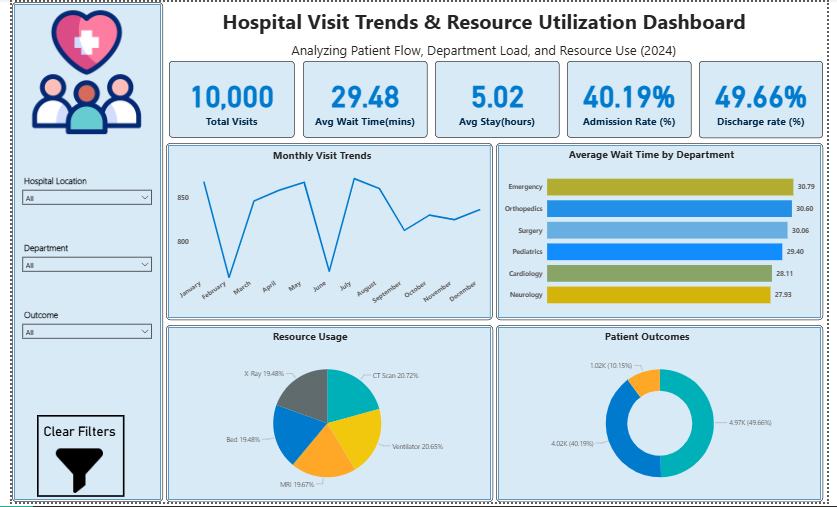

This screenshot's page, from the dashboard's own definition file:
{"tool":"powerbi","page":{"name":"Page 1","canvas":[1500,920],"ordinal":0},"visuals":[{"type":"slicer","fields":{"Values":["hospital_resource_data.Hospital_Location"]},"box":[9.2,313.6,258.5,127.7],"z":0,"group":"g1"},{"type":"textbox","box":[258.5,5.5,1218.1,62.6],"z":0},{"type":"textbox","box":[292.3,66.2,1150.8,61.5],"z":1000},{"type":"slicer","fields":{"Values":["hospital_resource_data.Outcome"]},"box":[9.2,559.8,258.5,127.7],"z":1000,"group":"g1"},{"type":"card","fields":{"Values":["hospital_resource_data.Total Visits"]},"box":[289.8,108.7,230.6,141.2],"z":2000},{"type":"slicer","fields":{"Values":["hospital_resource_data.Department"]},"box":[9.2,436.7,258.5,127.7],"z":2000,"group":"g1"},{"type":"card","fields":{"Values":["hospital_resource_data.Average Wait Time"]},"box":[534.7,108.7,228.8,141.2],"z":3000},{"type":"card","fields":{"Values":["hospital_resource_data.Average Stay"]},"box":[777.9,108.7,228.8,141.2],"z":4000},{"type":"card","fields":{"Values":["hospital_resource_data.Admission Rate (%)"]},"box":[1021.1,108.7,228.8,141.2],"z":5000},{"type":"shape","box":[0,0,277.8,920],"z":6000},{"type":"shape","box":[282.5,259.2,601.2,325.8],"z":7000},{"type":"shape","box":[890.6,259.4,601.7,325.7],"z":8000},{"type":"shape","box":[283.4,594.3,601.7,325.7],"z":9000},{"type":"shape","box":[890.6,594.3,601.7,325.7],"z":10000},{"type":"card","fields":{"Values":["hospital_resource_data.Discharge rate"]},"box":[1264.2,107.9,228.2,141.7],"z":11000},{"type":"lineChart","fields":{"Y":["hospital_resource_data.Total Visits"],"Category":["hospital_resource_data.Month"]},"box":[290.8,296.1,593.4,278.9],"z":12000},{"type":"clusteredBarChart","fields":{"Category":["hospital_resource_data.Department"],"Y":["hospital_resource_data.Avg Wait Time(mins)"]},"box":[900,296.1,584.3,280.4],"z":13000},{"type":"textbox","box":[475.4,263.1,212.3,44.6],"z":14000},{"type":"textbox","box":[1018.5,261.5,346.2,47.7],"z":15000},{"type":"pieChart","fields":{"Category":["hospital_resource_data.Resource_Used"],"Y":["hospital_resource_data.Resource Usage"]},"box":[292.3,641.5,575.4,266.2],"z":16000},{"type":"textbox","box":[473.8,596.9,212.3,44.6],"z":17000},{"type":"donutChart","fields":{"Category":["hospital_resource_data.Outcome"],"Y":["CountNonNull(hospital_resource_data.Outcome)"]},"box":[900,641.5,584.6,266.2],"z":18000},{"type":"textbox","box":[1086.2,596.9,212.3,44.6],"z":19000},{"type":"image","box":[18.5,9.2,238.5,240],"z":20000},{"type":"image","title":"Clear Filters","box":[39.8,777.2,167.6,140.4],"z":21000},{"type":"shape","box":[46.1,760.5,161.3,150.8],"z":22000},{"type":"group","id":"g1","title":"slicers","box":[9.2,313.6,258.5,373.8],"z":23000}]}

Visuals, with their boxes in screenshot pixels (x1, y1, x2, y2), scaled from the page's 1500x920 canvas onto the 837x507 screenshot:
slicer - hospital_resource_data.Hospital_Location: {"x1": 5, "y1": 173, "x2": 149, "y2": 243}
textbox: {"x1": 144, "y1": 3, "x2": 824, "y2": 38}
textbox: {"x1": 163, "y1": 36, "x2": 805, "y2": 70}
slicer - hospital_resource_data.Outcome: {"x1": 5, "y1": 308, "x2": 149, "y2": 379}
card - hospital_resource_data.Total Visits: {"x1": 162, "y1": 60, "x2": 290, "y2": 138}
slicer - hospital_resource_data.Department: {"x1": 5, "y1": 241, "x2": 149, "y2": 311}
card - hospital_resource_data.Average Wait Time: {"x1": 298, "y1": 60, "x2": 426, "y2": 138}
card - hospital_resource_data.Average Stay: {"x1": 434, "y1": 60, "x2": 562, "y2": 138}
card - hospital_resource_data.Admission Rate (%): {"x1": 570, "y1": 60, "x2": 697, "y2": 138}
shape: {"x1": 0, "y1": 0, "x2": 155, "y2": 506}
shape: {"x1": 158, "y1": 143, "x2": 493, "y2": 322}
shape: {"x1": 497, "y1": 143, "x2": 833, "y2": 322}
shape: {"x1": 158, "y1": 328, "x2": 494, "y2": 506}
shape: {"x1": 497, "y1": 328, "x2": 833, "y2": 506}
card - hospital_resource_data.Discharge rate: {"x1": 705, "y1": 59, "x2": 833, "y2": 138}
lineChart - hospital_resource_data.Total Visits x hospital_resource_data.Month: {"x1": 162, "y1": 163, "x2": 493, "y2": 317}
clusteredBarChart - hospital_resource_data.Department x hospital_resource_data.Avg Wait Time(mins): {"x1": 502, "y1": 163, "x2": 828, "y2": 318}
textbox: {"x1": 265, "y1": 145, "x2": 384, "y2": 170}
textbox: {"x1": 568, "y1": 144, "x2": 762, "y2": 170}
pieChart - hospital_resource_data.Resource_Used x hospital_resource_data.Resource Usage: {"x1": 163, "y1": 354, "x2": 484, "y2": 500}
textbox: {"x1": 264, "y1": 329, "x2": 383, "y2": 354}
donutChart - hospital_resource_data.Outcome x CountNonNull(hospital_resource_data.Outcome): {"x1": 502, "y1": 354, "x2": 828, "y2": 500}
textbox: {"x1": 606, "y1": 329, "x2": 725, "y2": 354}
image: {"x1": 10, "y1": 5, "x2": 143, "y2": 137}
"Clear Filters" image: {"x1": 22, "y1": 428, "x2": 116, "y2": 506}
shape: {"x1": 26, "y1": 419, "x2": 116, "y2": 502}
"slicers" group: {"x1": 5, "y1": 173, "x2": 149, "y2": 379}
